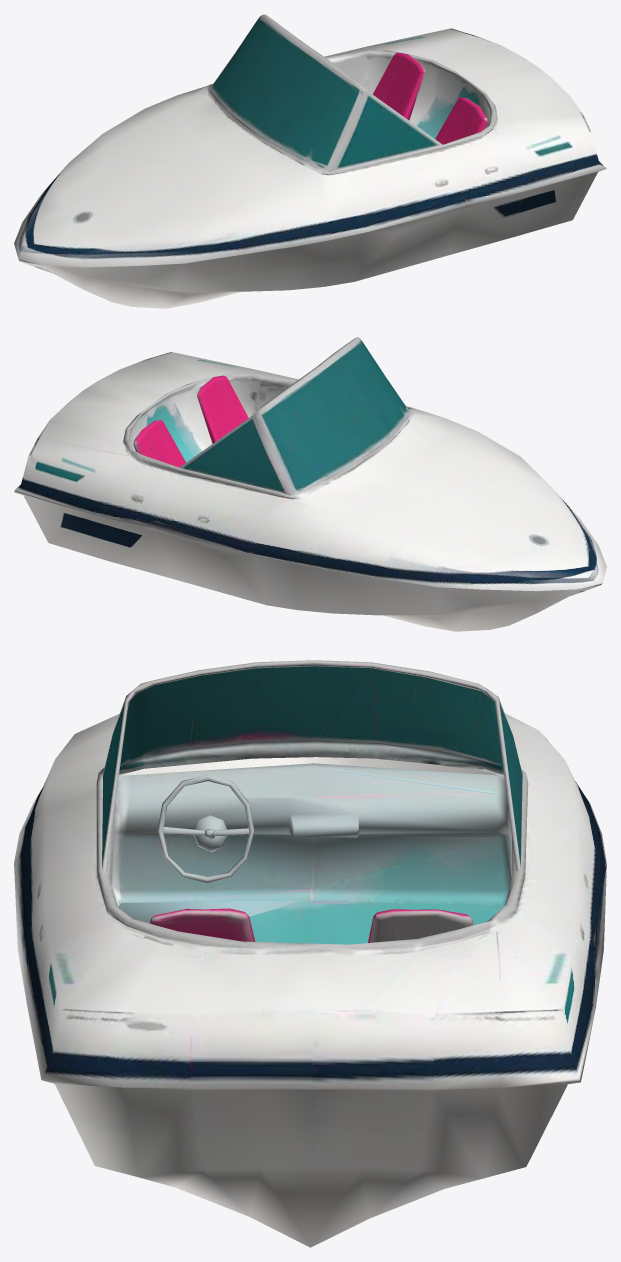
The model's file is speedboat.glb.
3 views of the same model, one above another, from view 1: azimuth 30°, elevation 25°; view 2: azimuth 150°, elevation 25°; view 3: azimuth 270°, elevation 25° (orthographic). The views are drawn at different scales.
Bounding box in the file's own units: 1 × 0.4329 × 0.5592.
1 material, 1 textured.
